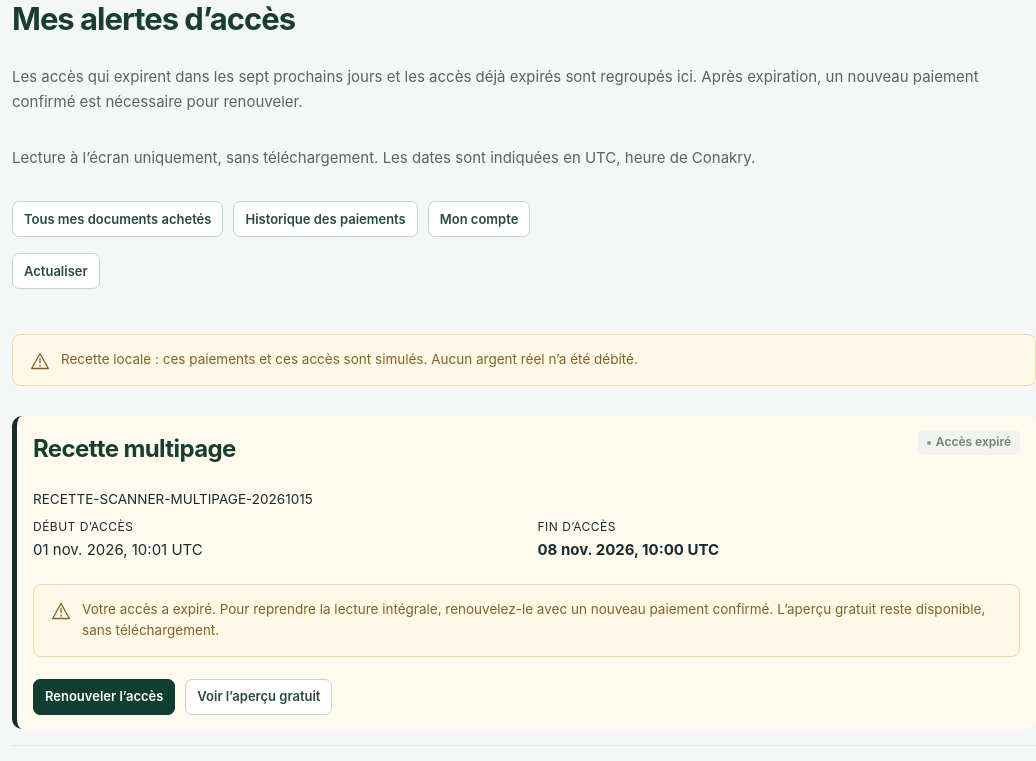
Test: le rappel expiré ouvre le renouvellement dans la même fiche sans débloquer le document
expect the text "Votre accès a expiré. Pour reprendre" is shown: met, box [82,601,985,638]
Click the button "Renouveler l’accès" at (104,697), box [33,679,175,715]
(page scrolled)
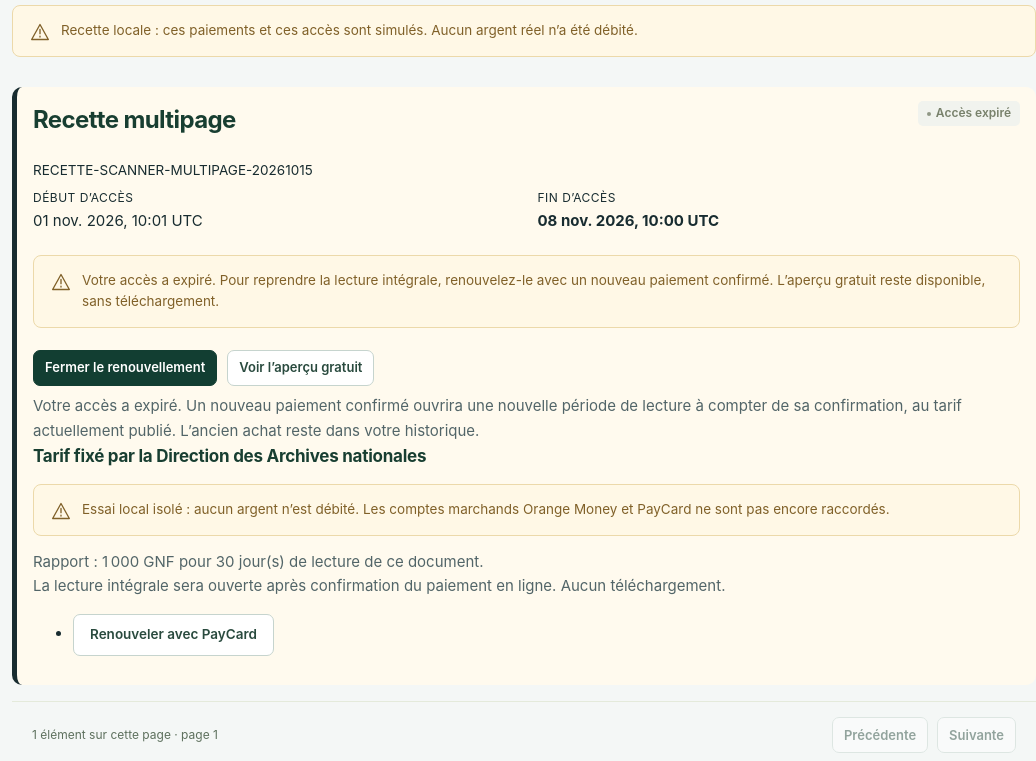
expect the button "Renouveler avec PayCard" is shown: met, box [73,614,274,656]
